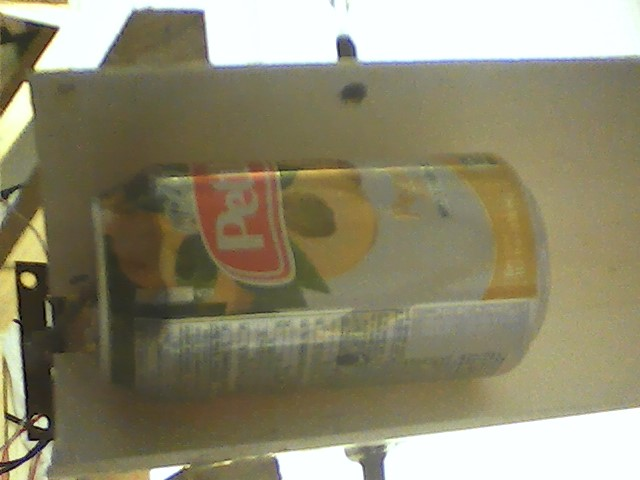lata: (87, 148, 559, 406)
